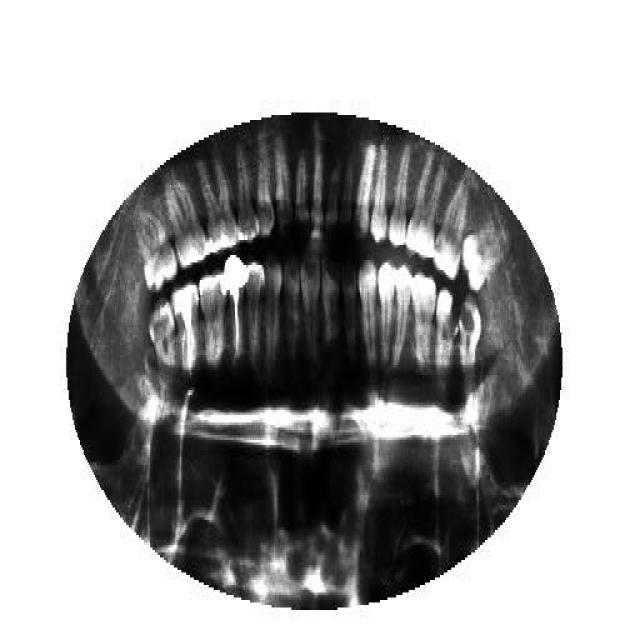Cavity: (458, 293, 482, 385), (434, 290, 458, 382)
Impacted Tooth: (462, 222, 502, 292)
Implant: (171, 285, 199, 375), (224, 252, 246, 362)
